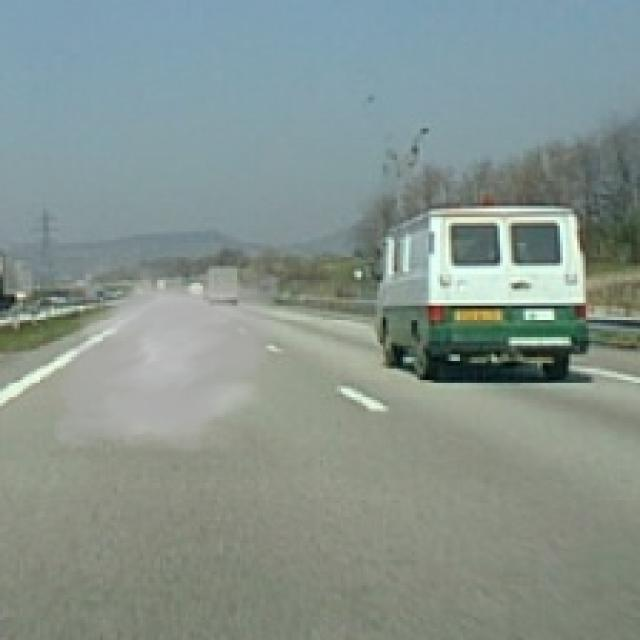smoke: (43, 254, 291, 469)
